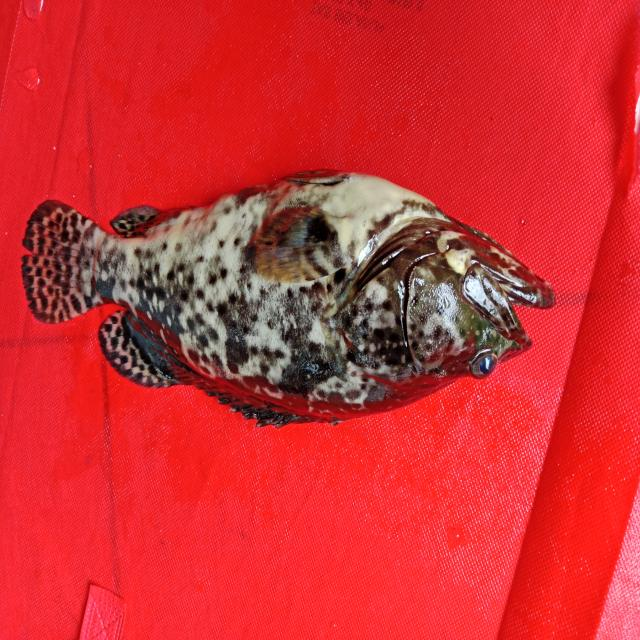ikan: (16, 153, 575, 440)
